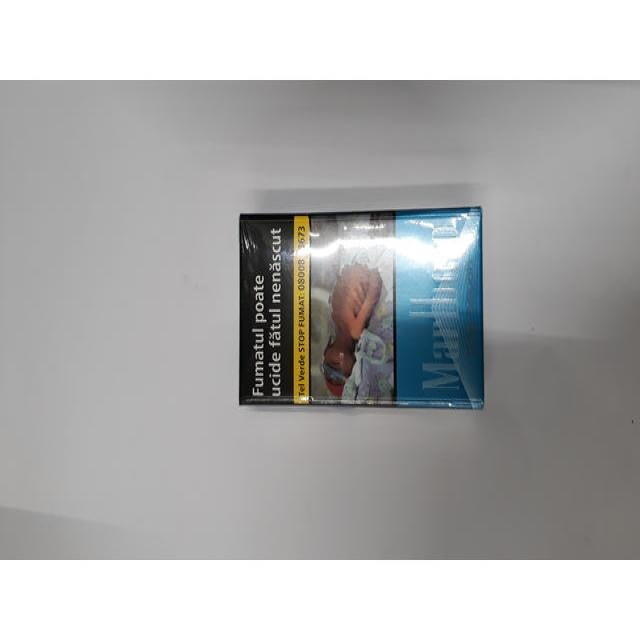marlboro: (235, 201, 484, 413)
